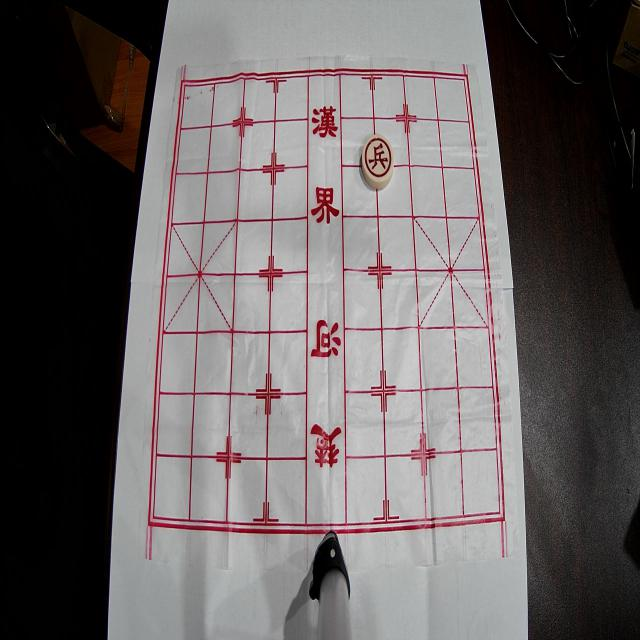red-soldier: (362, 134, 394, 188)
